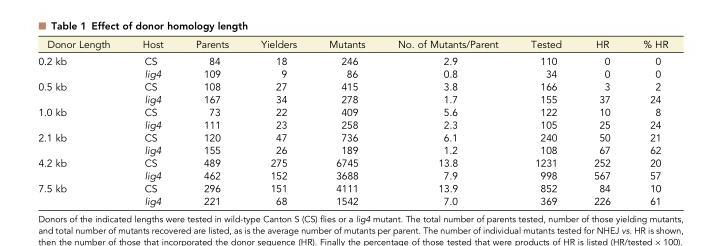table: (37, 37, 667, 206)
table column: (380, 37, 513, 206), (37, 37, 125, 206), (244, 37, 312, 206), (312, 37, 380, 206), (178, 37, 244, 206), (513, 37, 576, 206), (125, 37, 178, 206), (576, 37, 626, 206), (626, 37, 667, 206)
table column header: (37, 37, 667, 52)
table row: (37, 37, 667, 52), (37, 52, 667, 67), (37, 79, 667, 92), (37, 92, 667, 105), (37, 105, 667, 118), (37, 130, 667, 143), (37, 143, 667, 156), (37, 168, 667, 181), (37, 181, 667, 194), (37, 67, 667, 79), (37, 118, 667, 130), (37, 156, 667, 168), (37, 194, 667, 206)
table spanning cell: (37, 52, 125, 79), (37, 79, 125, 105), (37, 130, 125, 156), (37, 105, 125, 130), (37, 156, 125, 181), (37, 181, 125, 206)
